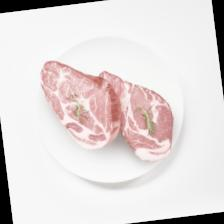meat: (38, 52, 126, 156), (97, 62, 178, 167)
